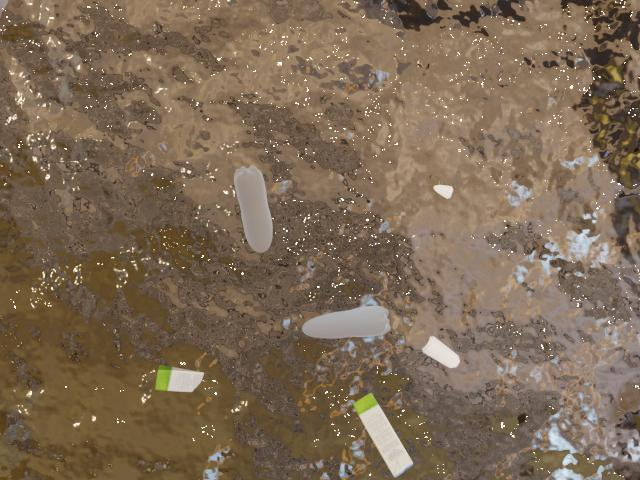Metal: (421, 331, 465, 380), (424, 178, 460, 220)
Plastic: (222, 169, 297, 256), (298, 303, 395, 346)
Trash: (345, 386, 438, 480), (137, 354, 218, 401)
